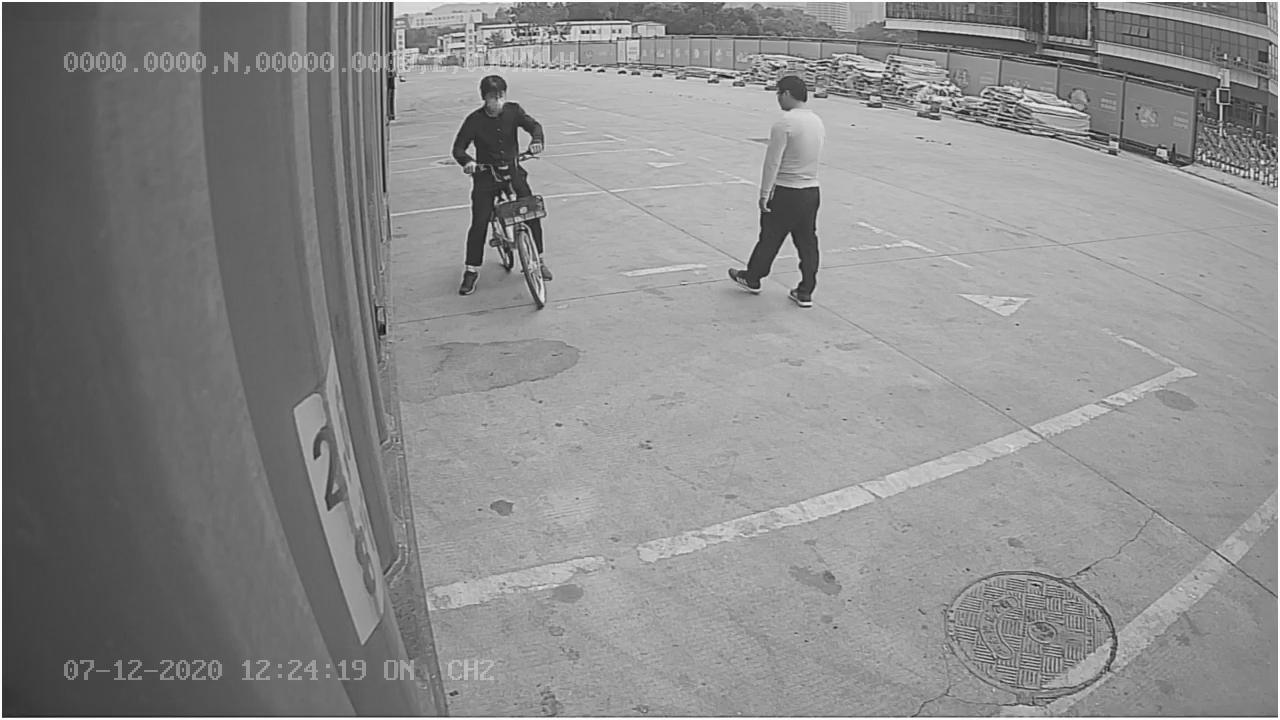person: (725, 75, 831, 308)
